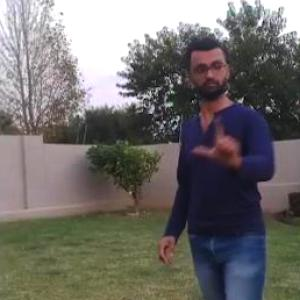land_hand: (192, 115, 245, 168)
